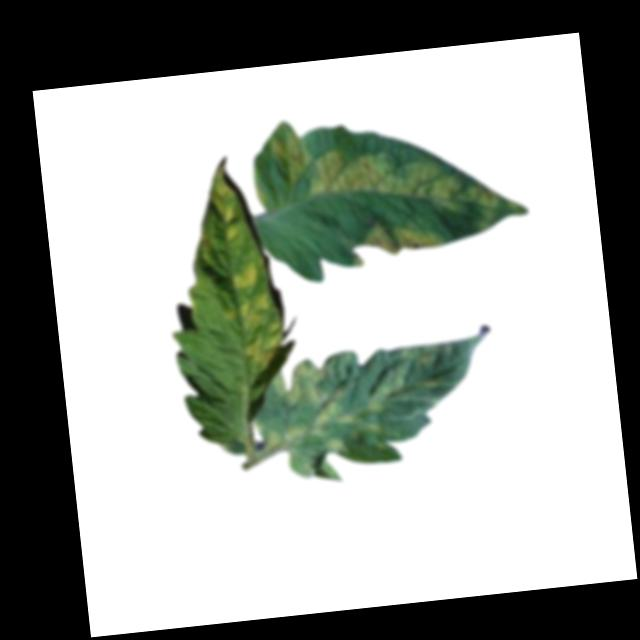Leaf_Mold: (266, 102, 503, 252), (253, 358, 346, 450), (363, 212, 444, 257), (206, 155, 243, 245), (221, 290, 276, 332), (241, 325, 289, 371), (365, 375, 404, 416), (228, 256, 264, 295), (339, 407, 361, 425)
